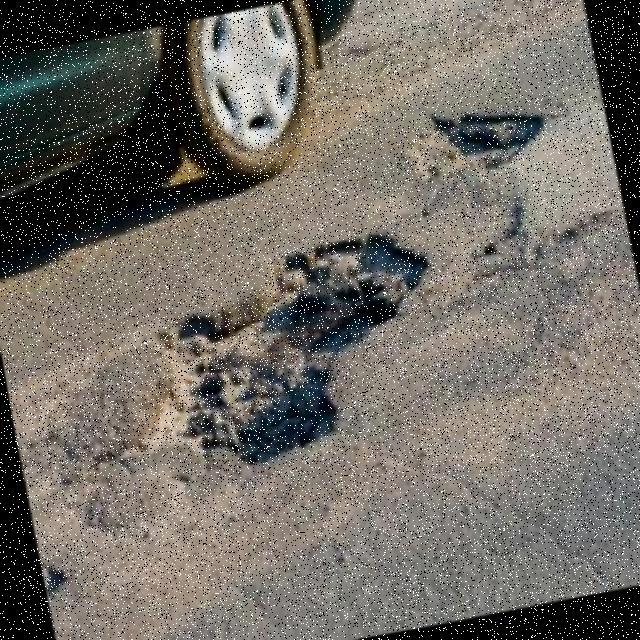Pothole: (94, 233, 431, 465), (402, 109, 548, 182)
